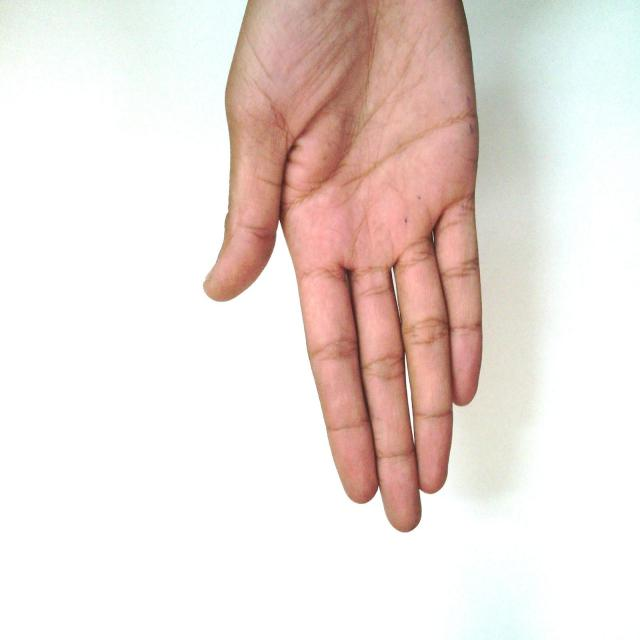others: (199, 1, 574, 534)
